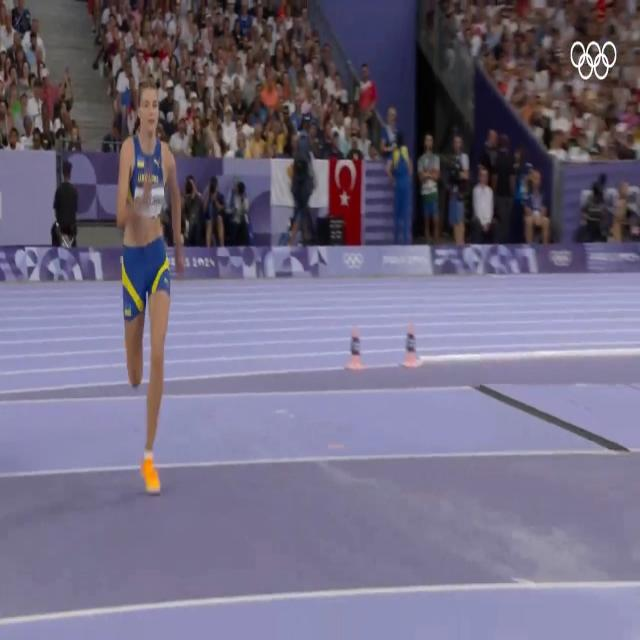run: (120, 81, 184, 494)
